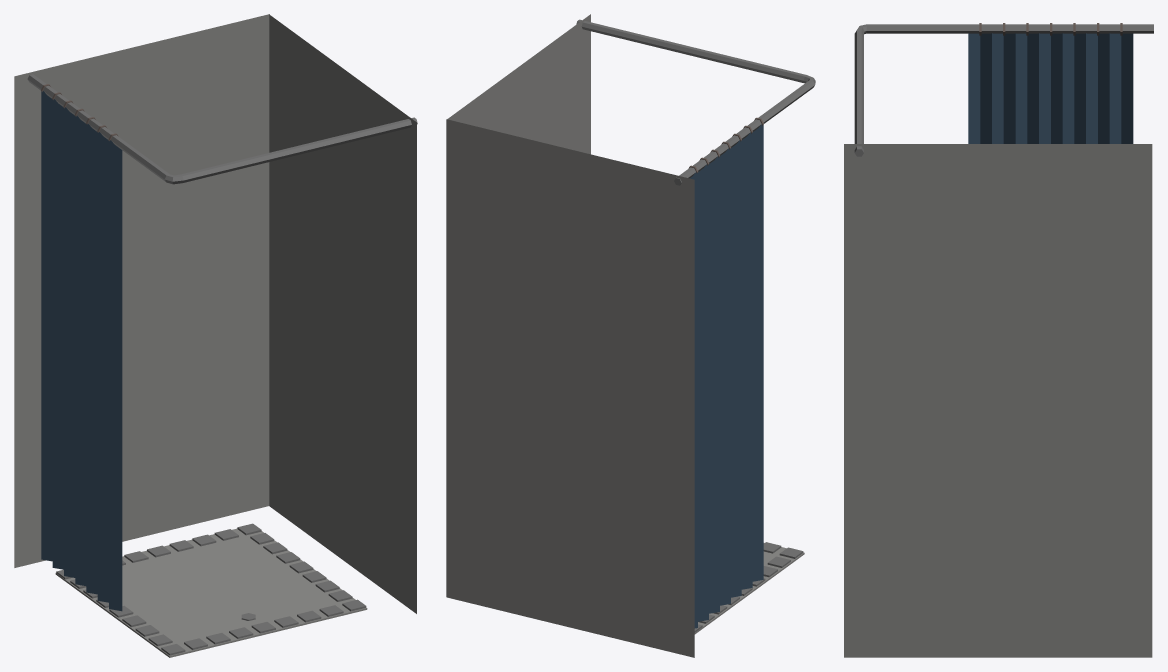
Rendered from Bathroom_Shower1.glb.
3 views of the same model, side by side, from view 1: azimuth 30°, elevation 25°; view 2: azimuth 150°, elevation 25°; view 3: azimuth 270°, elevation 25° (orthographic). The views are drawn at different scales.
Parts seen in each view (by area): view 1: Plane; view 2: Plane; view 3: Plane.
Boxes of the visible parts, x1,y1,x2,y2 form: Plane: (14,14,417,657); Plane: (446,14,815,657); Plane: (844,23,1153,657).
Bounding box in the file's own units: 1.49 × 2.69 × 1.47.
